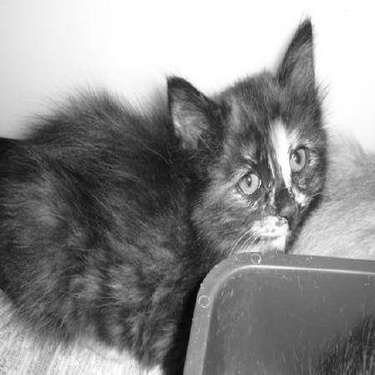cat: (3, 12, 325, 362), (3, 118, 370, 373)
